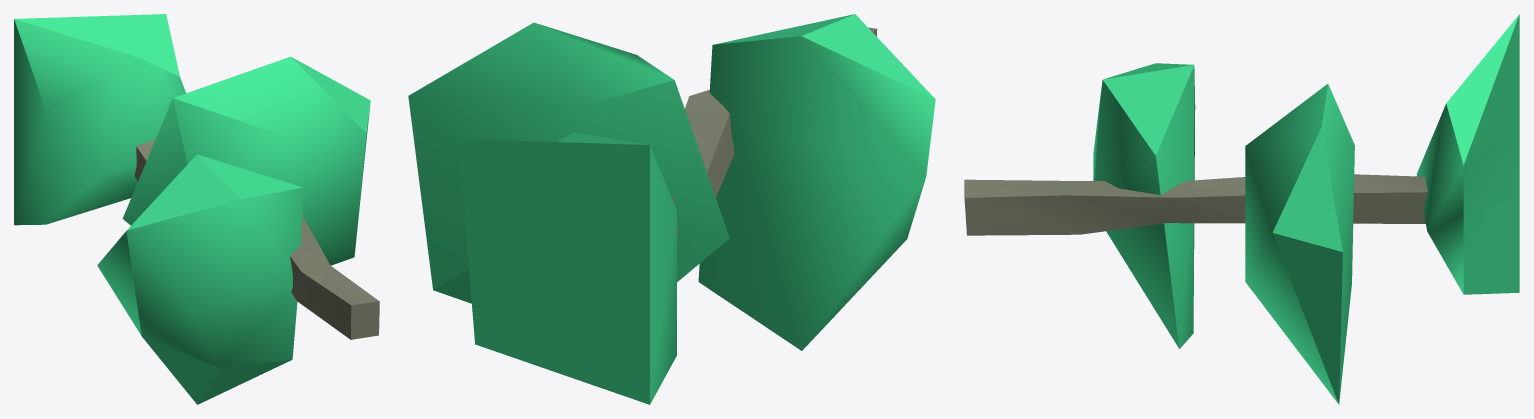
The model's file is PlatformTree.fbx.
The picture shows the model from 3 angles, left to right: view 1: azimuth 30°, elevation 25°; view 2: azimuth 150°, elevation 25°; view 3: azimuth 270°, elevation 25°; orthographic projection. The views are drawn at different scales.
Visible parts, largest first — view 1: 立方体_1; view 2: 立方体_1; view 3: 立方体_1.
Boxes of the visible parts, left/top/right/bottom form: 立方体_1: left=14, top=14, right=379, bottom=404; 立方体_1: left=408, top=14, right=935, bottom=404; 立方体_1: left=964, top=14, right=1519, bottom=404.
Bounding box in the file's own units: 329 × 259 × 430.
